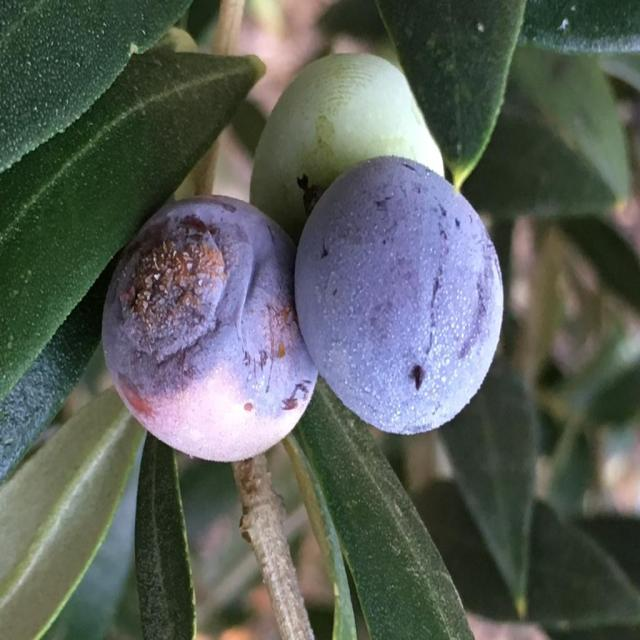Healthy: (296, 157, 503, 435), (250, 53, 444, 238)
Olive Fruit Fly: (102, 197, 317, 462)
